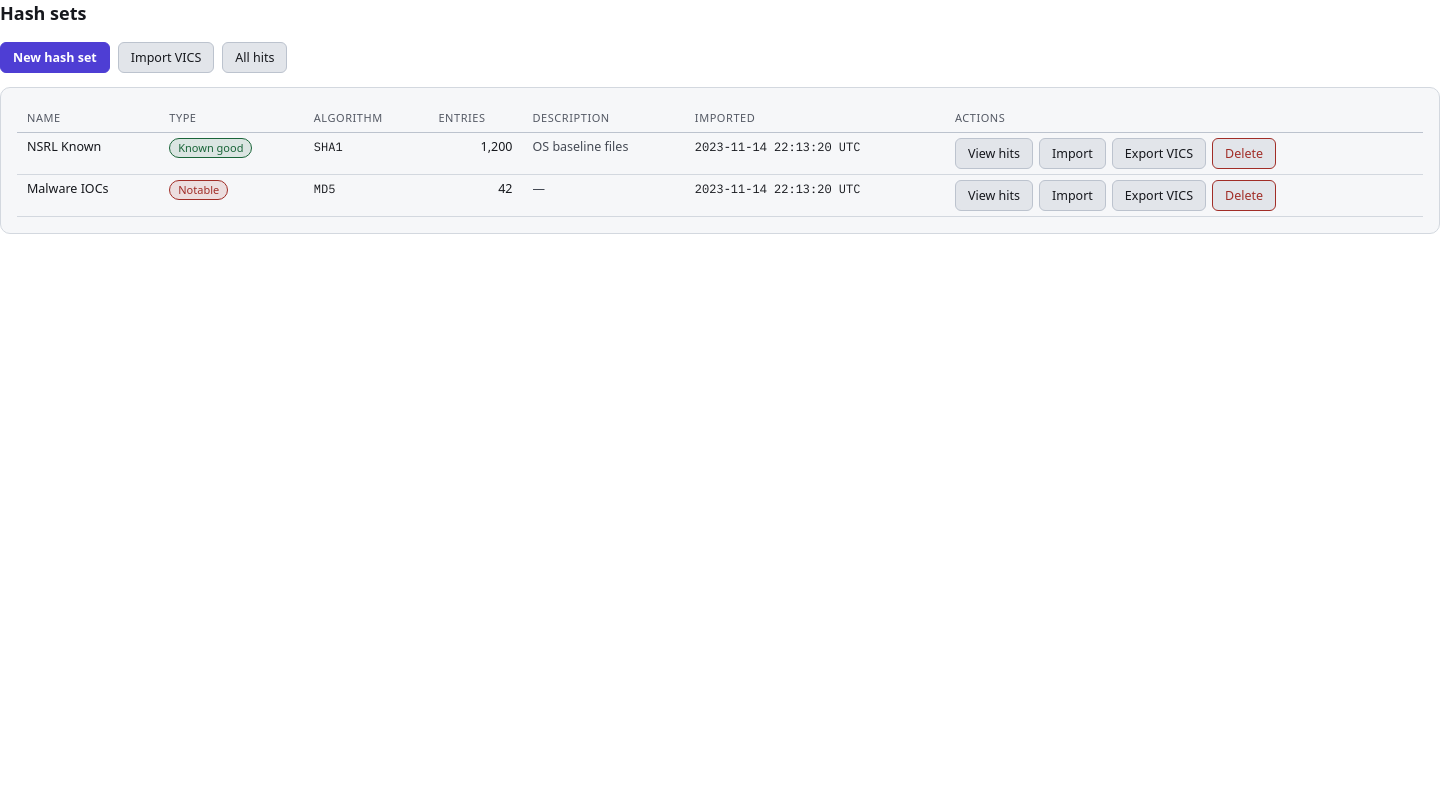
HashSetsPage › deletes a hash set after confirmation
Expected: the text "Malware IOCs" is shown, [17,174,159,216]
Click the button "Delete" in the row of "Malware IOCs" at (1244, 196), box [1212,180,1276,211]
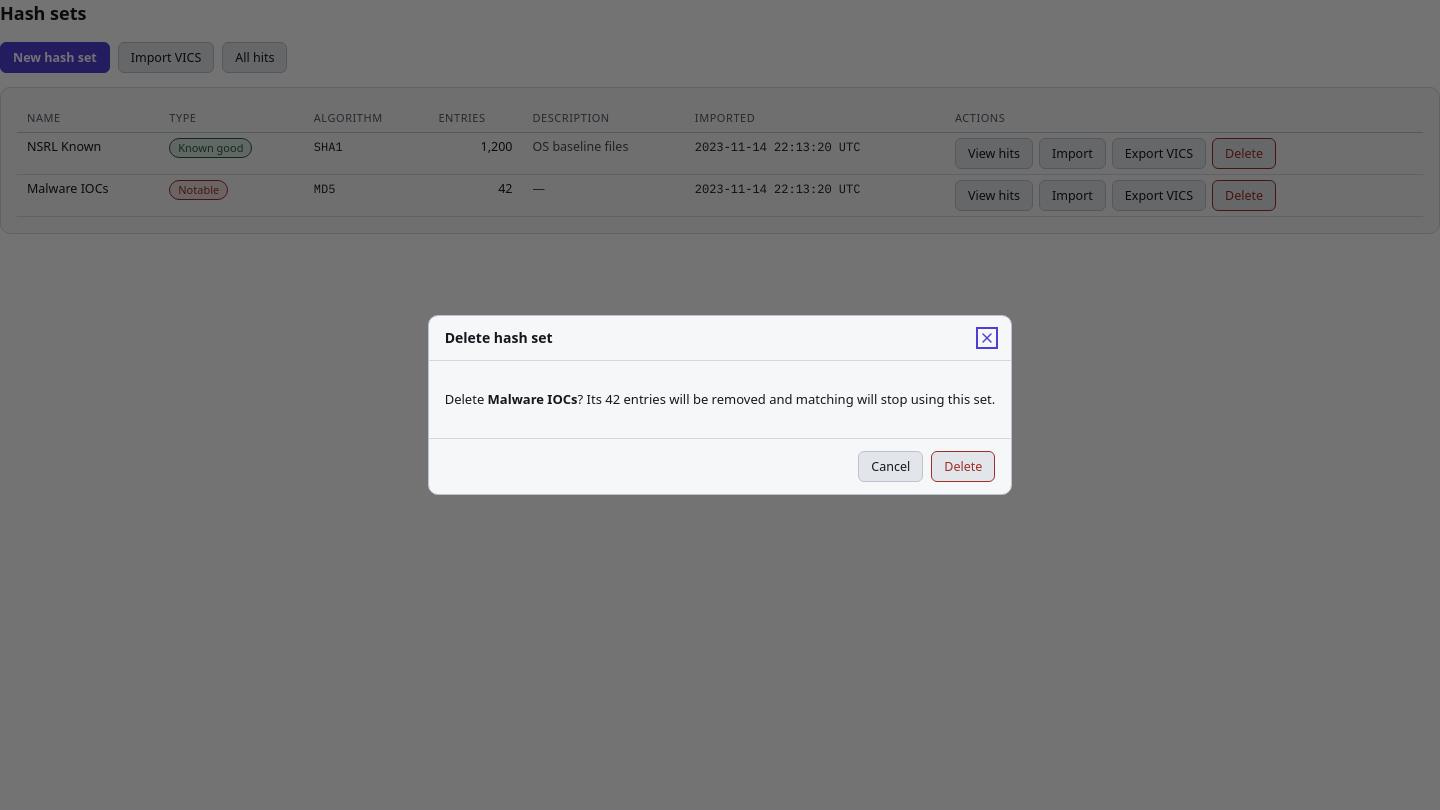
Now the text "Malware IOCs" is shown, box [488,390,578,408]
Click the button "Delete" at (963, 467), box [931,451,995,482]
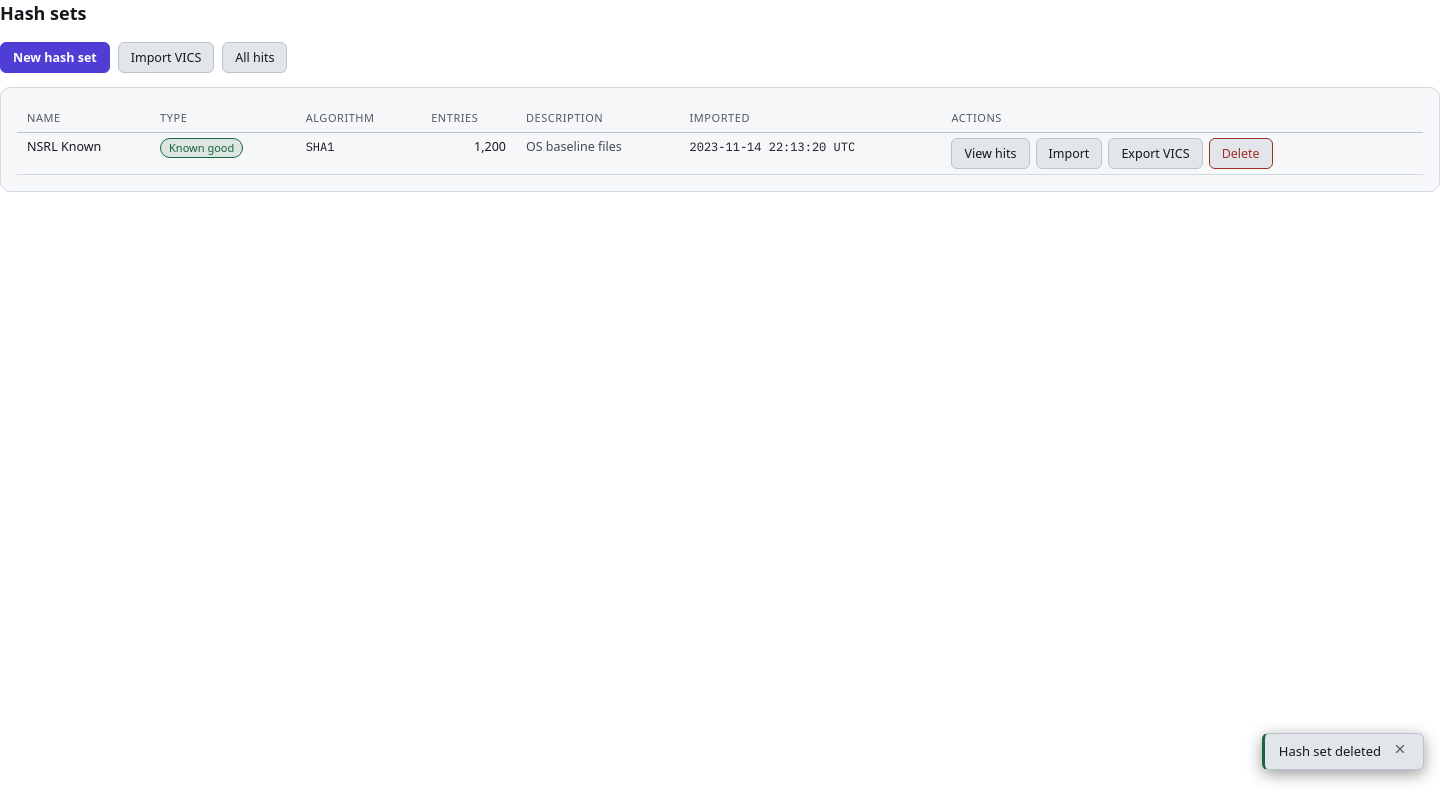
Now the text "Hash set deleted" is shown, box [1279,742,1381,761]
Now the text "Malware IOCs" is gone
